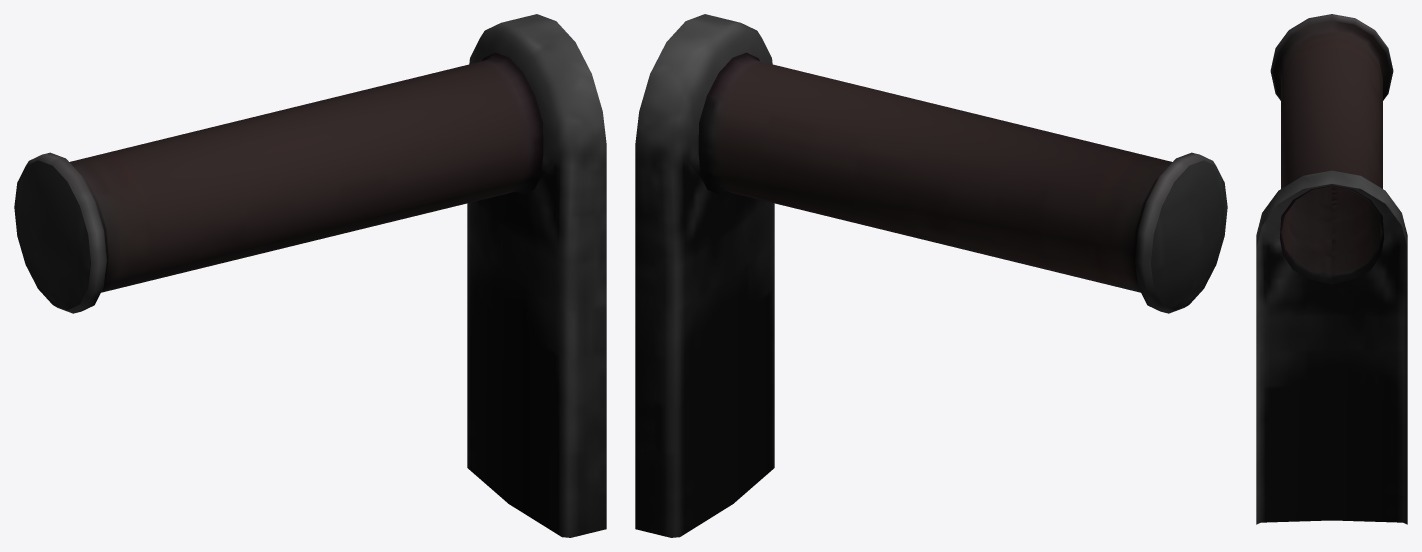
File: CockpitThrottle.fbx
3 renders of one model, left to right at view 1: azimuth 30°, elevation 25°; view 2: azimuth 150°, elevation 25°; view 3: azimuth 270°, elevation 25°, orthographic. The views are drawn at different scales.
Visible parts, largest first — view 1: throttle_center_0; view 2: throttle_center_0; view 3: throttle_center_0.
Boxes of the visible parts, bbox=[...] form: throttle_center_0: bbox=[14, 14, 606, 537]; throttle_center_0: bbox=[635, 14, 1227, 537]; throttle_center_0: bbox=[1256, 14, 1407, 524].
Size of the model in its own units: 11.42 by 9.93 by 3.85.
